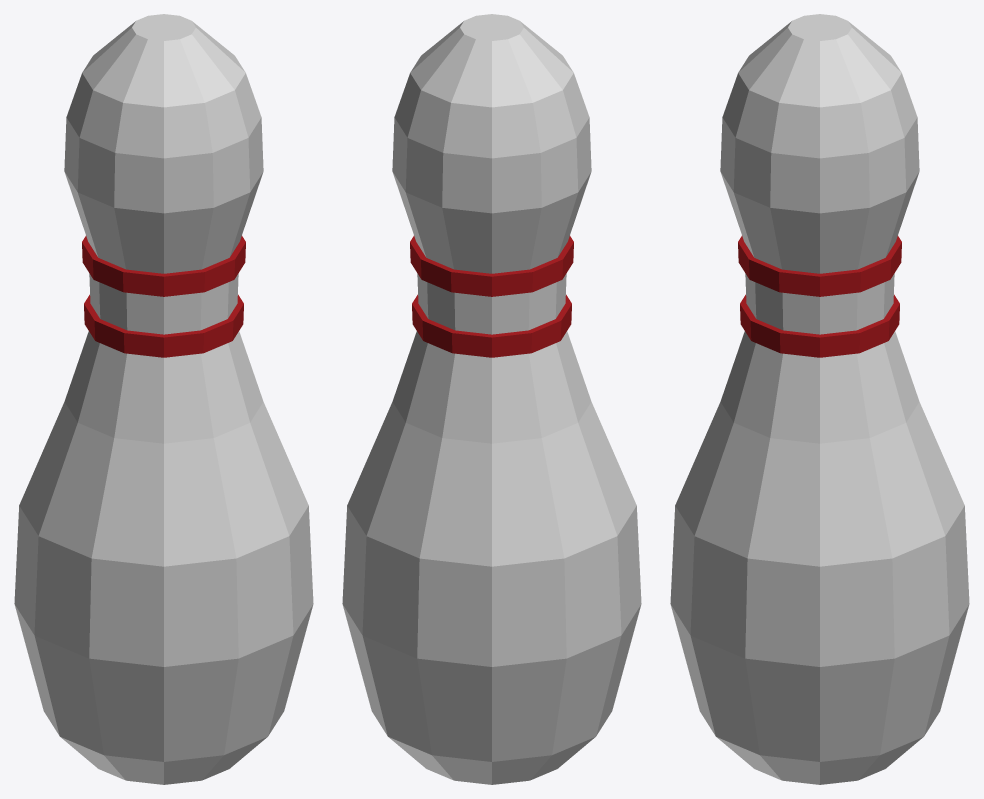
The model's file is BowlingPin.fbx.
The picture shows the model from 3 angles, left to right: view 1: azimuth 30°, elevation 25°; view 2: azimuth 150°, elevation 25°; view 3: azimuth 270°, elevation 25°; orthographic projection.
Visible parts, largest first — view 1: Cylinder; view 2: Cylinder; view 3: Cylinder.
Boxes of the visible parts, x1,y1,x2,y2 form: Cylinder: [14, 14, 313, 784]; Cylinder: [342, 14, 641, 784]; Cylinder: [670, 14, 969, 784].
Size of the model in its own units: 159 by 425 by 159.
